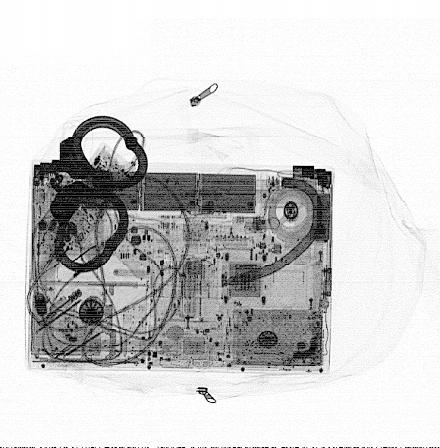HandCuffs: (46, 114, 149, 273)
